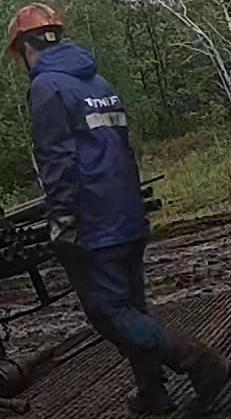helmet: (5, 2, 63, 60)
vest: (26, 43, 148, 249)
